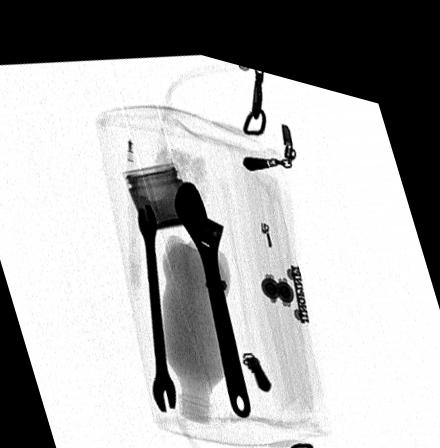Wrench: (172, 172, 251, 406), (135, 193, 177, 405)
